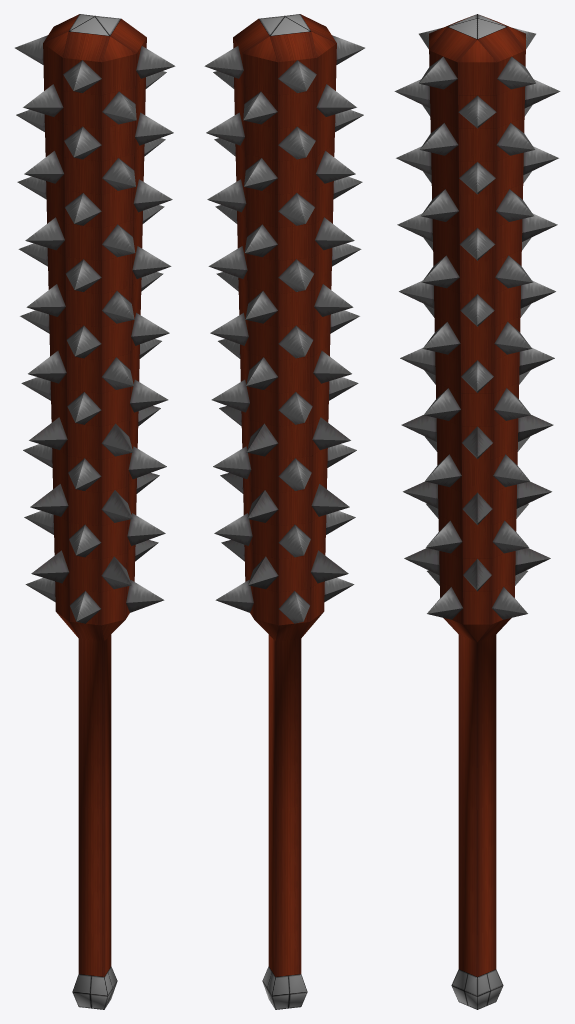
The model's file is kanabo.obj.
The picture shows the model from 3 angles, left to right: view 1: azimuth 30°, elevation 25°; view 2: azimuth 150°, elevation 25°; view 3: azimuth 270°, elevation 25°; orthographic projection.
Visible parts, largest first — view 1: Cube.005_Cube.006; view 2: Cube.005_Cube.006; view 3: Cube.005_Cube.006.
Boxes of the visible parts, box(x1,y1,x2,y2) form: Cube.005_Cube.006: box(15, 14, 175, 1009); Cube.005_Cube.006: box(204, 14, 364, 1009); Cube.005_Cube.006: box(394, 14, 560, 1009).
Bounding box in the file's own units: 0.177 × 1.16 × 0.177.
